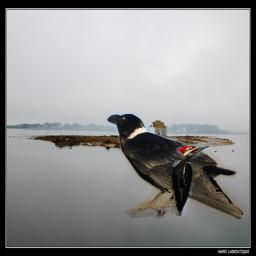Crow: (105, 110, 243, 219)
Woodpecker: (167, 144, 213, 216)
